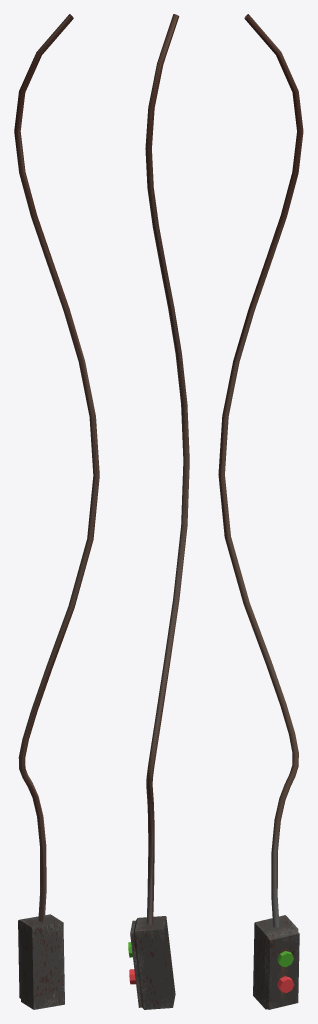
File: BG-Button.fbx
The picture shows the model from 3 angles, left to right: view 1: azimuth 90°, elevation 25°; view 2: azimuth 150°, elevation 25°; view 3: azimuth 270°, elevation 25°; orthographic projection.
Parts seen in each view (by area): view 1: Button-BG; view 2: Button-BG; view 3: Button-BG.
Boxes of the visible parts, x1=… form: Button-BG: x1=14, y1=14, x2=99, y2=1009; Button-BG: x1=128, y1=14, x2=189, y2=1009; Button-BG: x1=218, y1=14, x2=303, y2=1009.
Size of the model in its own units: 16.97 by 336 by 26.27.
Materials: 3 (3 with a texture image).
